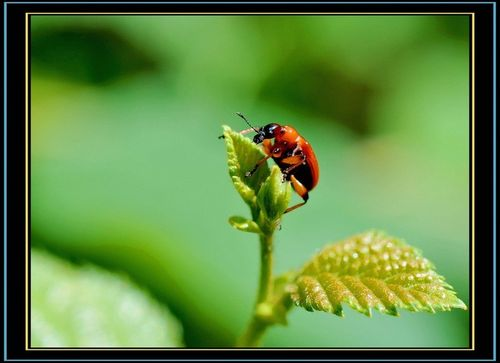Curculionidae: (218, 112, 320, 230)
